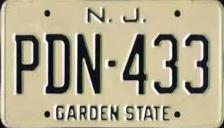3: (151, 32, 181, 95), (182, 32, 212, 95)
4: (120, 32, 152, 96)
D: (44, 32, 73, 95)
N: (74, 32, 106, 95)
P: (12, 33, 42, 97)
